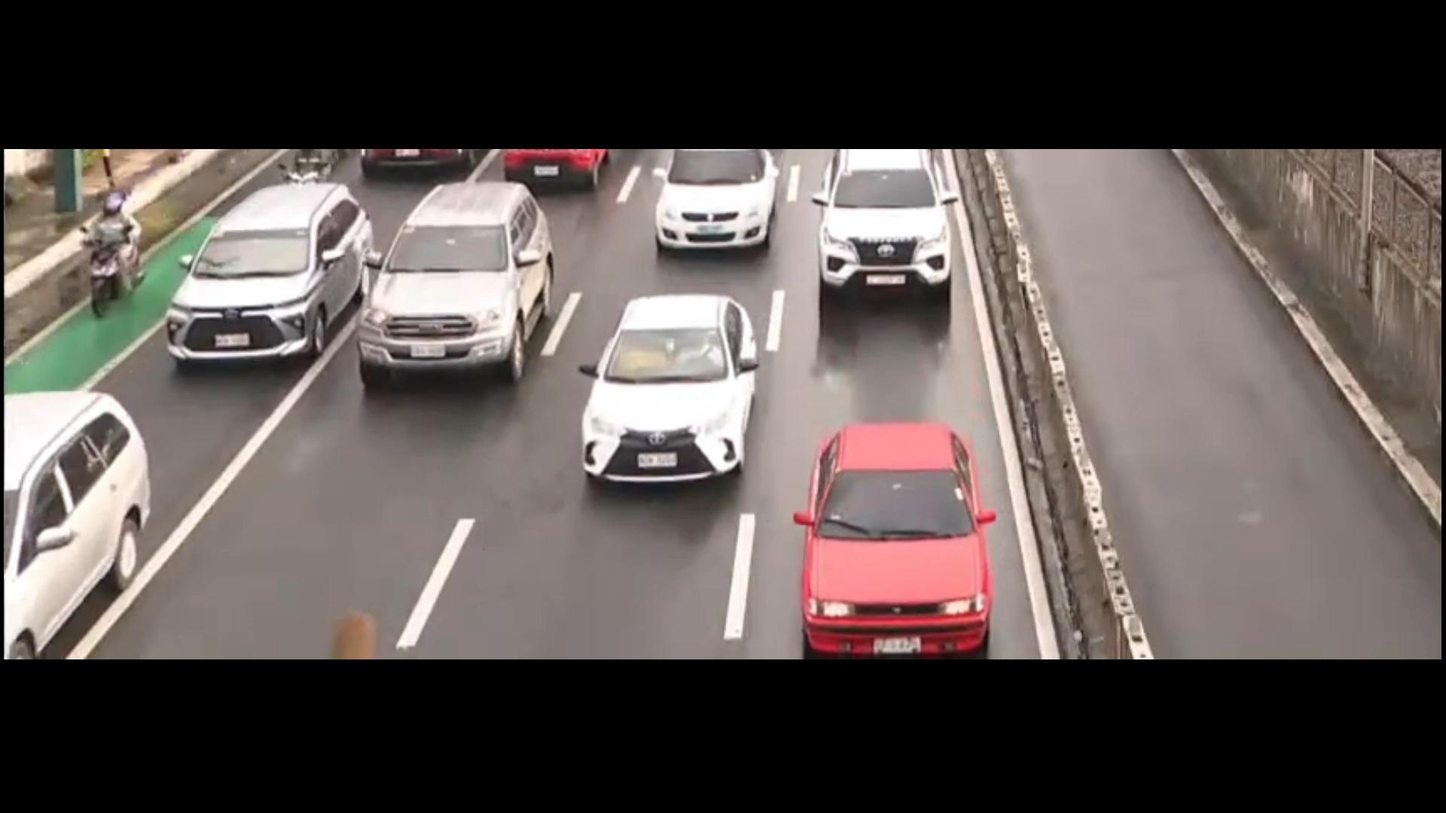Motorcycle: (76, 179, 162, 322)
SUV: (343, 170, 554, 410), (0, 360, 157, 664), (157, 185, 372, 383), (802, 142, 957, 315)
Sedan: (790, 401, 996, 649), (555, 273, 765, 514), (644, 149, 786, 268)
